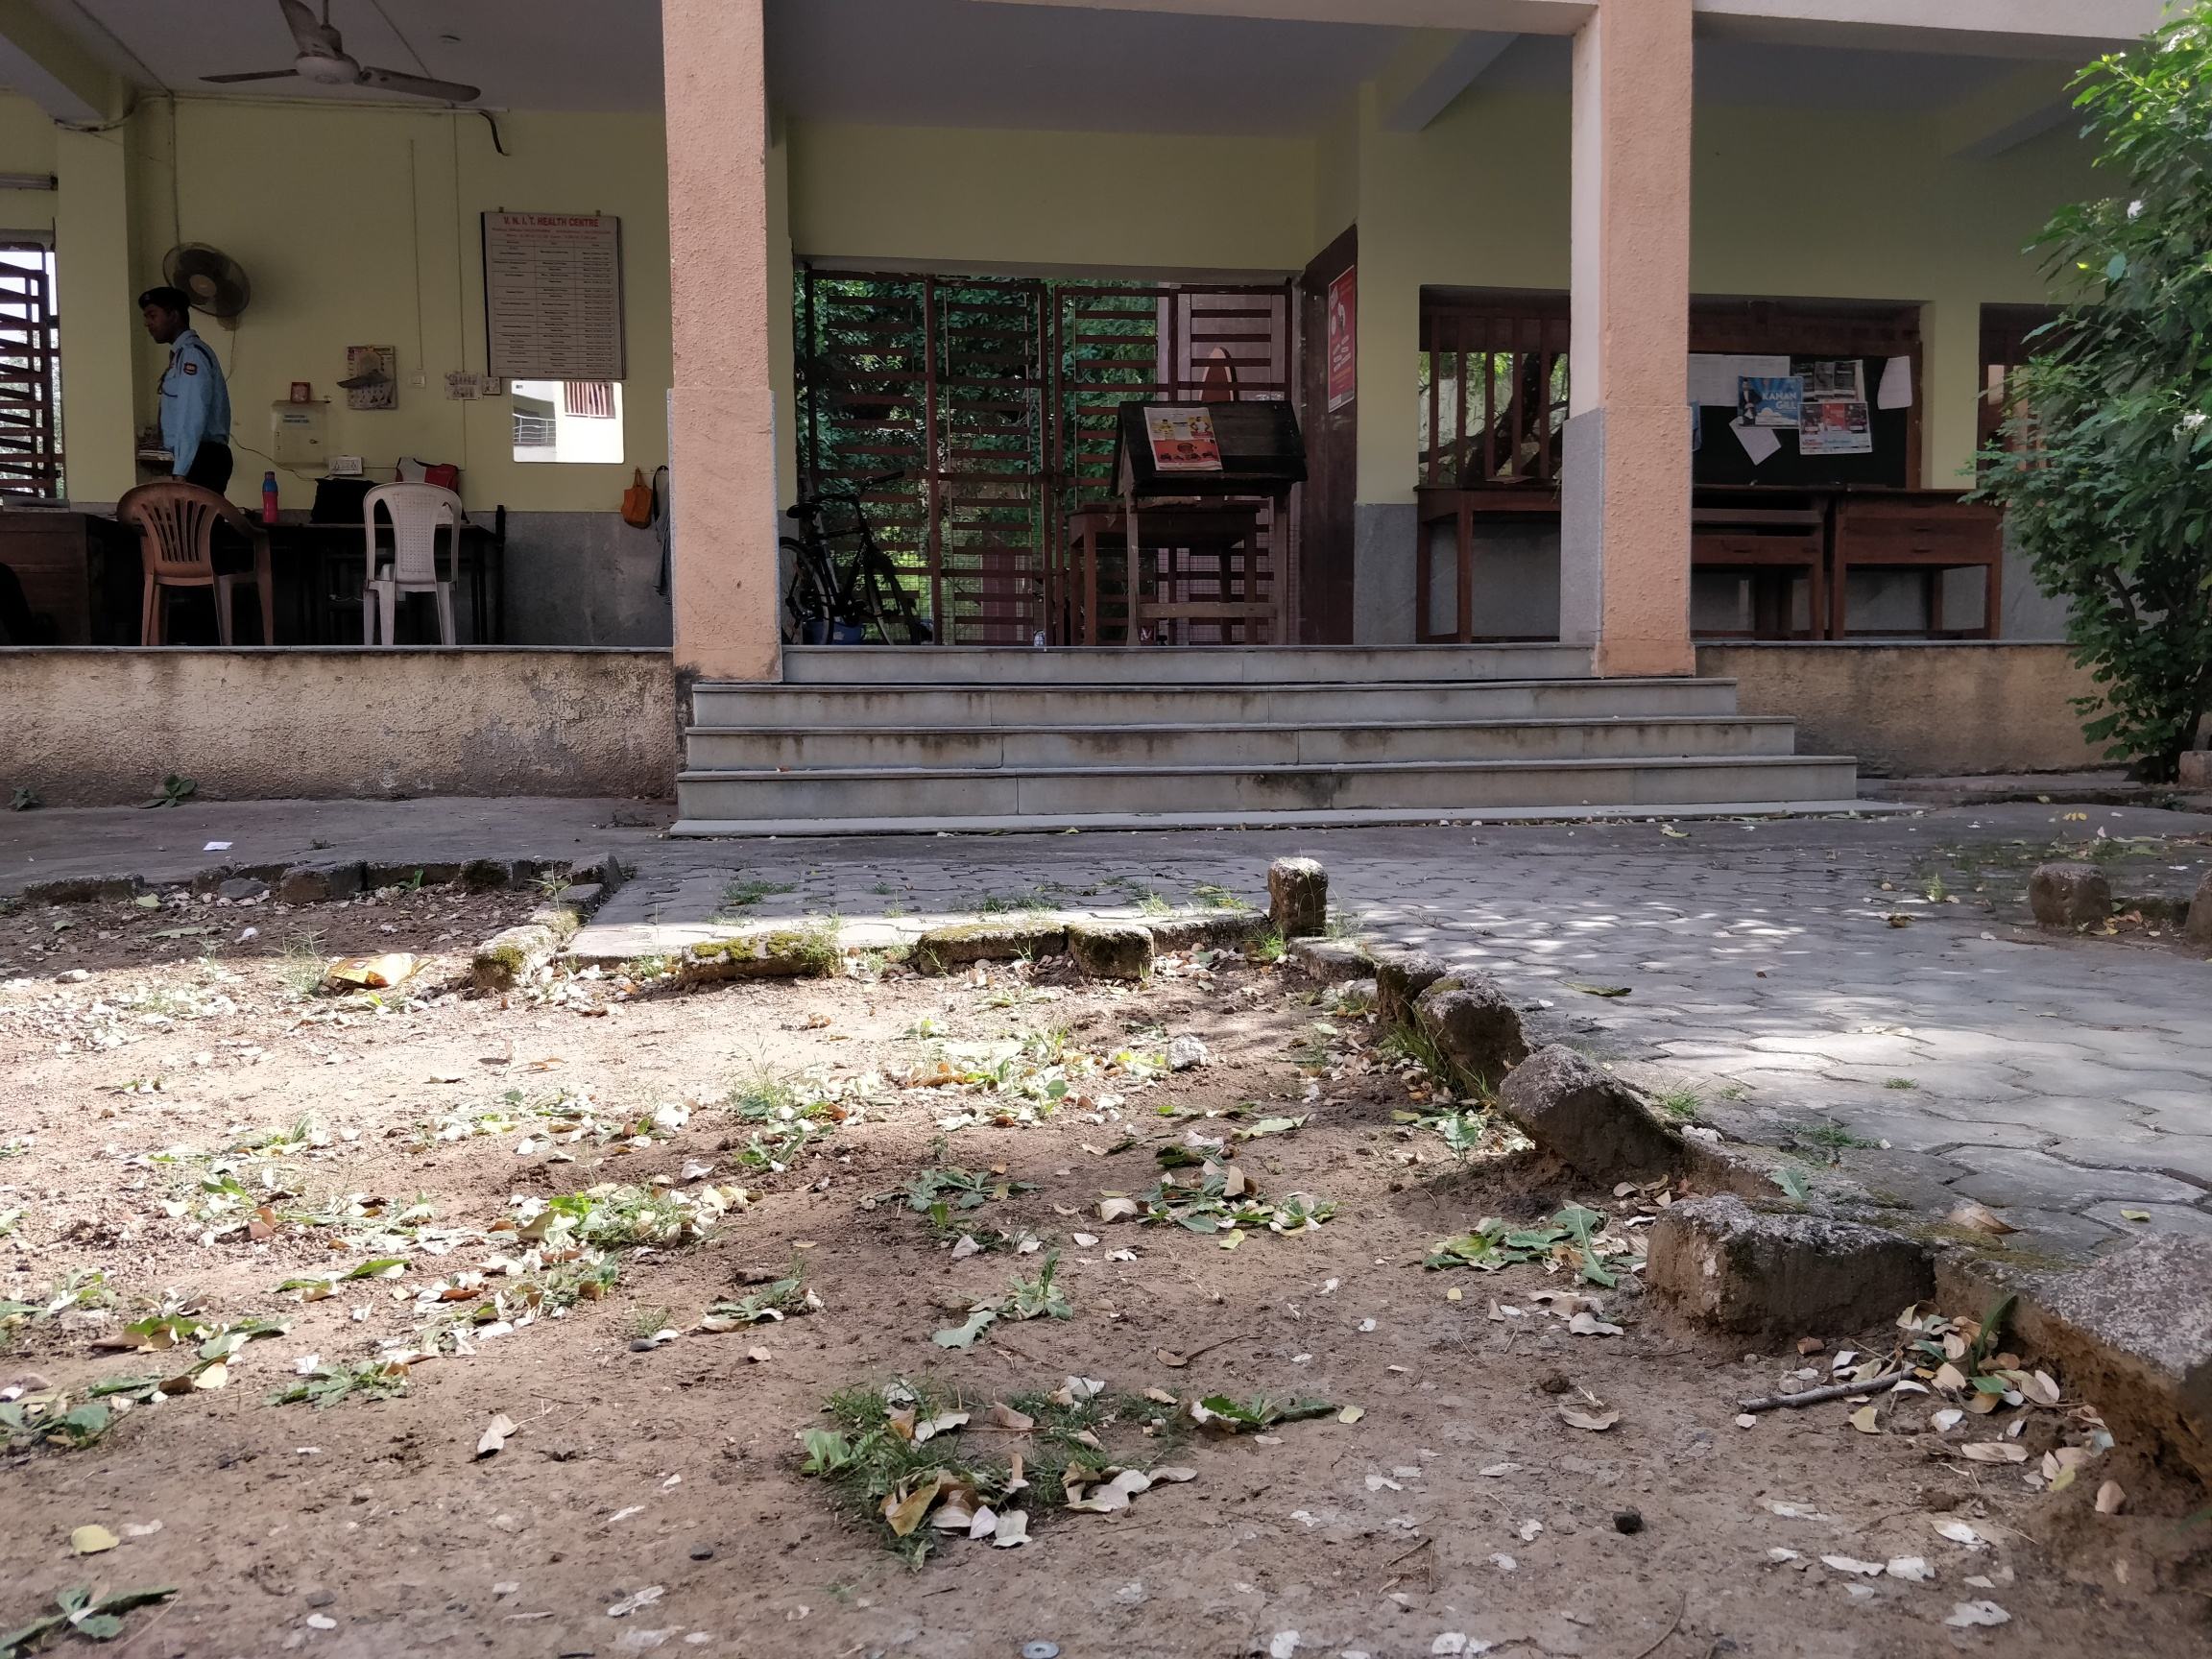stairs_up: (686, 640, 1860, 828)
